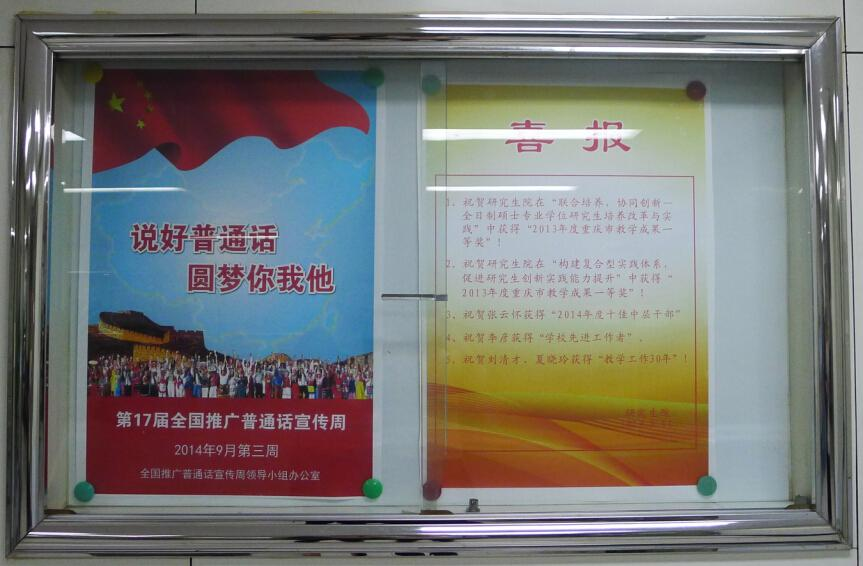bill: (85, 65, 375, 497), (425, 80, 706, 484)
